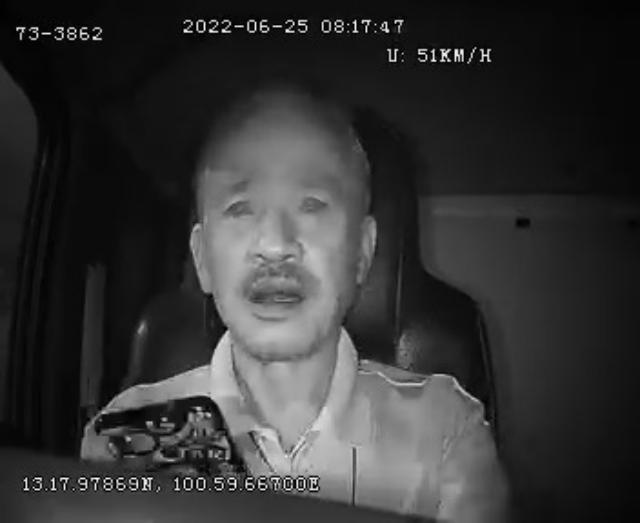PhoneUse: (94, 393, 250, 473)
SafeDriving: (287, 176, 339, 222), (215, 182, 264, 229)
